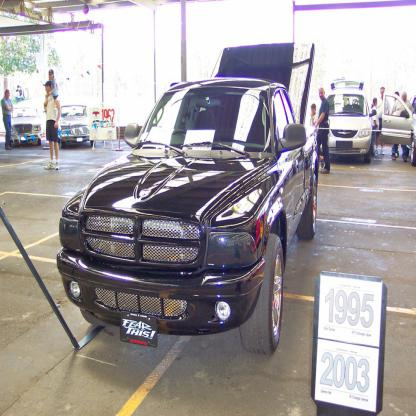Car: (54, 38, 318, 359), (319, 75, 377, 164), (382, 89, 416, 168), (56, 104, 95, 149), (8, 107, 42, 148)
